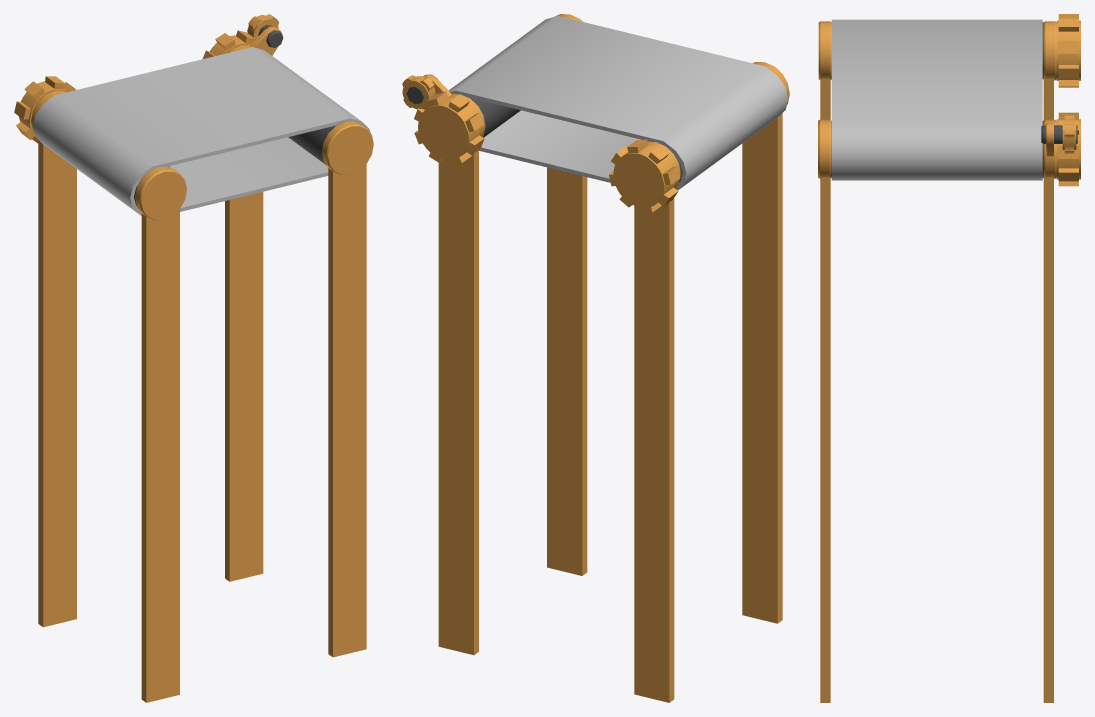
The model's file is gear beltconveyor.fbx.
The picture shows the model from 3 angles, left to right: view 1: azimuth 30°, elevation 25°; view 2: azimuth 150°, elevation 25°; view 3: azimuth 270°, elevation 25°; orthographic projection. The views are drawn at different scales.
Visible parts, largest first — view 1: 立方体.007, 円柱.025, 円柱.030, 円柱.031, 円柱.026, 円柱.024, 円柱.027; view 2: 立方体.007, 円柱.025, 円柱.026, 円柱.024, 円柱.027; view 3: 円柱.025, 立方体.007, 円柱.024, 円柱.031, 円柱.030, 円柱.026, 円柱.027.
Part boxes in pixels (box(x1,y1,x2,y2)): 立方体.007: box(38, 140, 366, 702); 円柱.025: box(33, 47, 370, 215); 円柱.030: box(228, 26, 373, 174); 円柱.031: box(31, 90, 186, 220); 円柱.026: box(202, 30, 343, 164); 円柱.024: box(14, 76, 170, 205); 円柱.027: box(247, 14, 283, 47); 立方体.007: box(438, 113, 782, 702); 円柱.025: box(448, 16, 788, 190); 円柱.026: box(414, 91, 520, 165); 円柱.024: box(609, 139, 682, 212); 円柱.027: box(402, 74, 437, 109); 円柱.025: box(831, 19, 1042, 180); 立方体.007: box(820, 77, 1053, 702); 円柱.024: box(1042, 14, 1080, 87); 円柱.031: box(818, 21, 1056, 80); 円柱.030: box(818, 119, 1056, 178); 円柱.026: box(831, 112, 1080, 186); 円柱.027: box(1041, 115, 1077, 153).
Size of the model in its own units: 1.07 by 2.16 by 0.8725.
